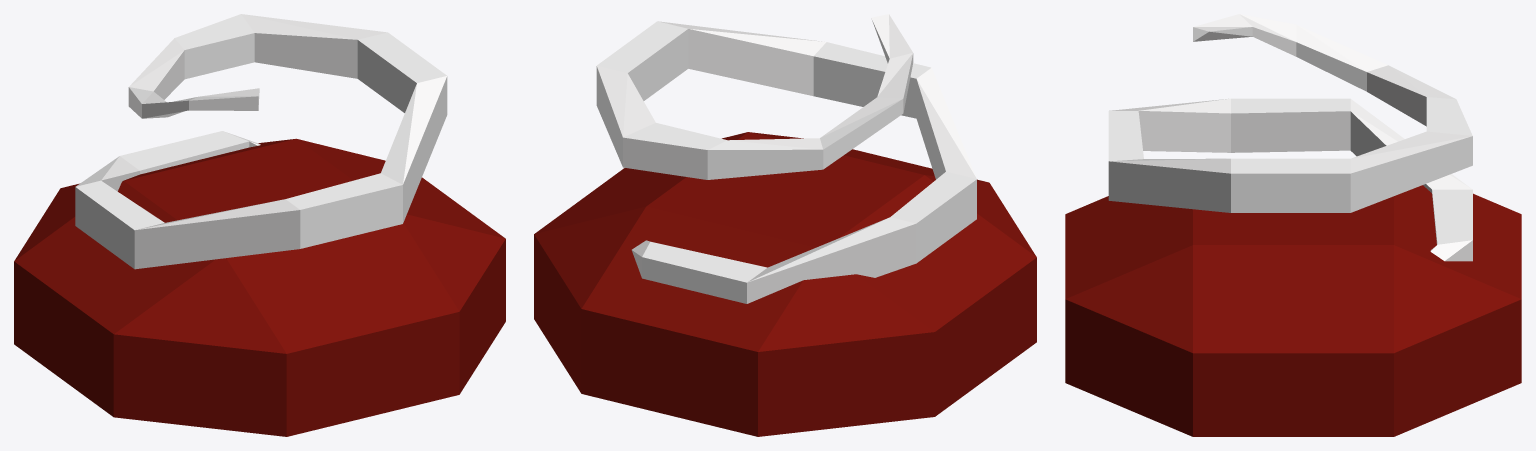
Rendered from model_3130_spotanim.obj.
The picture shows the model from 3 angles, left to right: view 1: azimuth 30°, elevation 25°; view 2: azimuth 150°, elevation 25°; view 3: azimuth 270°, elevation 25°; orthographic projection. The views are drawn at different scales.
Visible parts, largest first — view 1: 3130; view 2: 3130; view 3: 3130.
Part boxes in pixels (box(x1,y1,x2,y2)): 3130: box(14, 14, 505, 436); 3130: box(534, 14, 1036, 436); 3130: box(1065, 14, 1521, 436).
Size of the model in its own units: 168 by 120 by 168.
